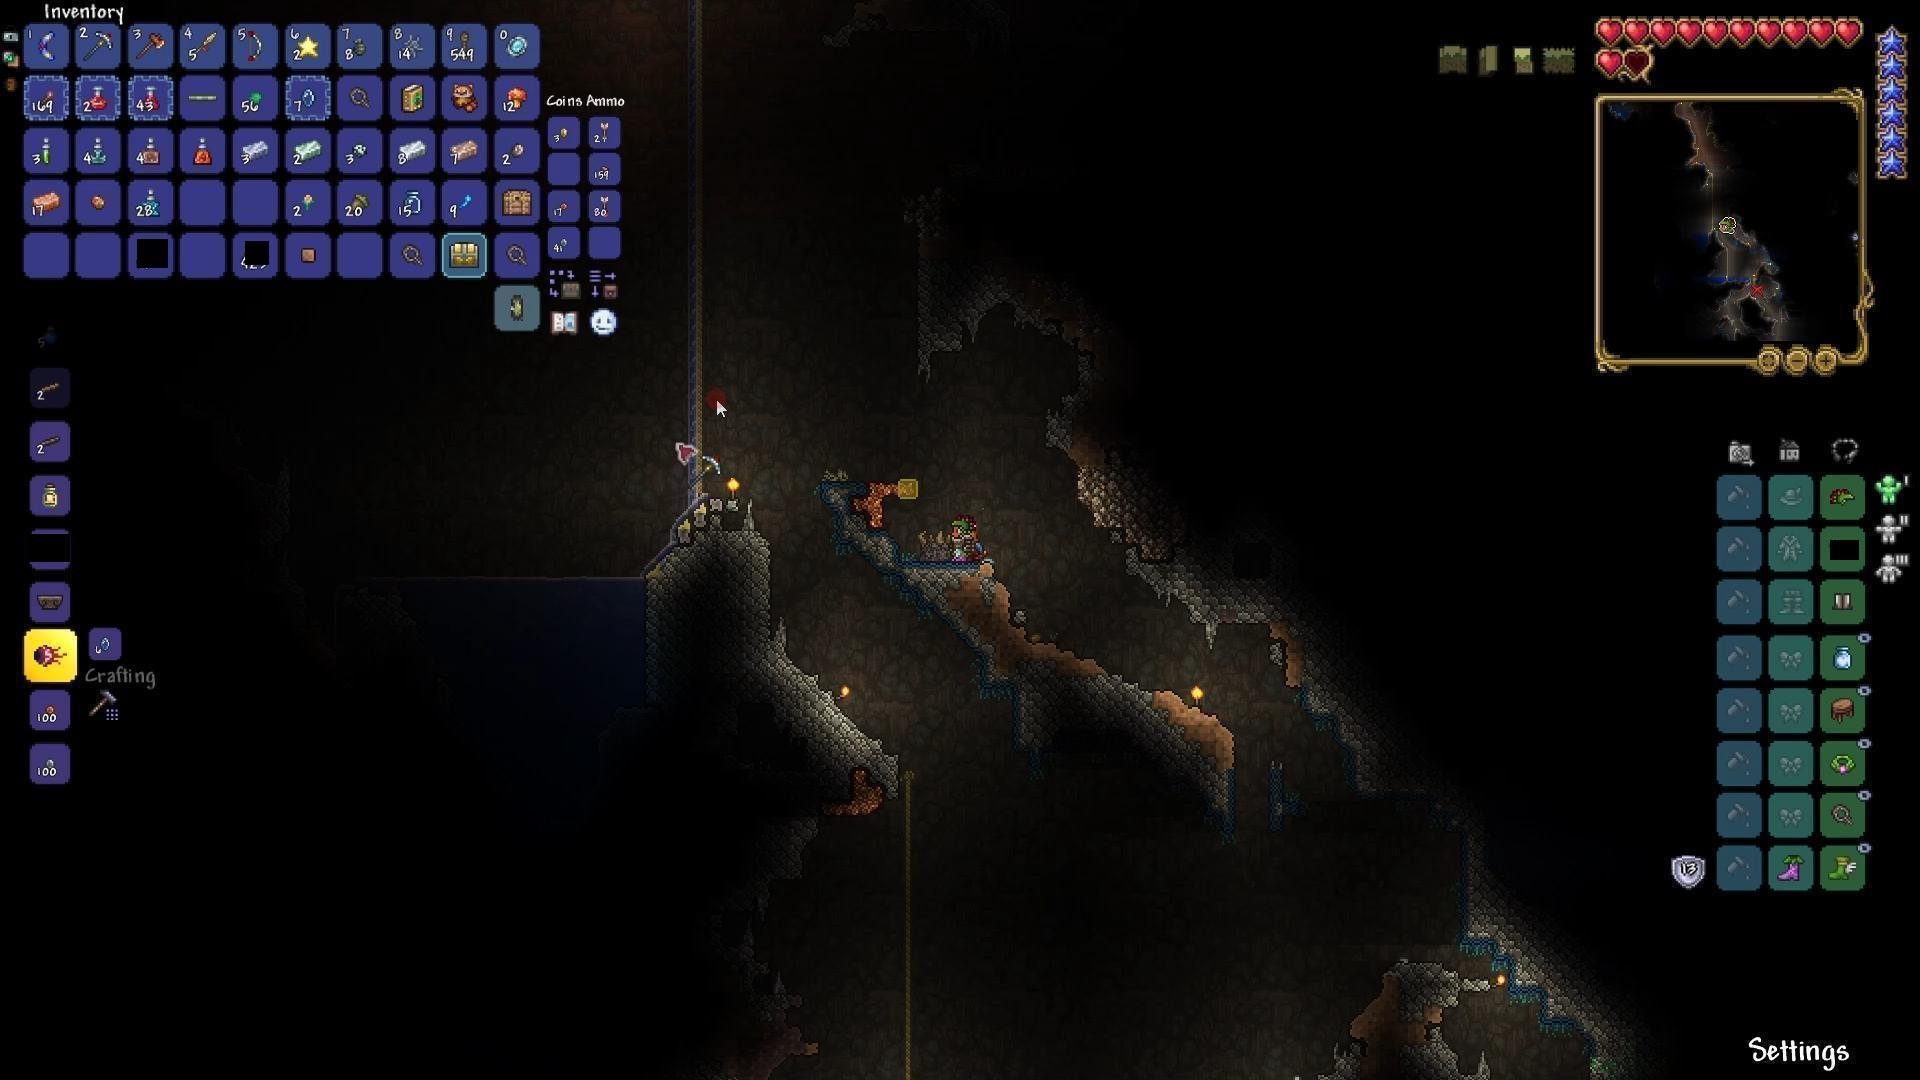legs: (1830, 589, 1855, 612)
